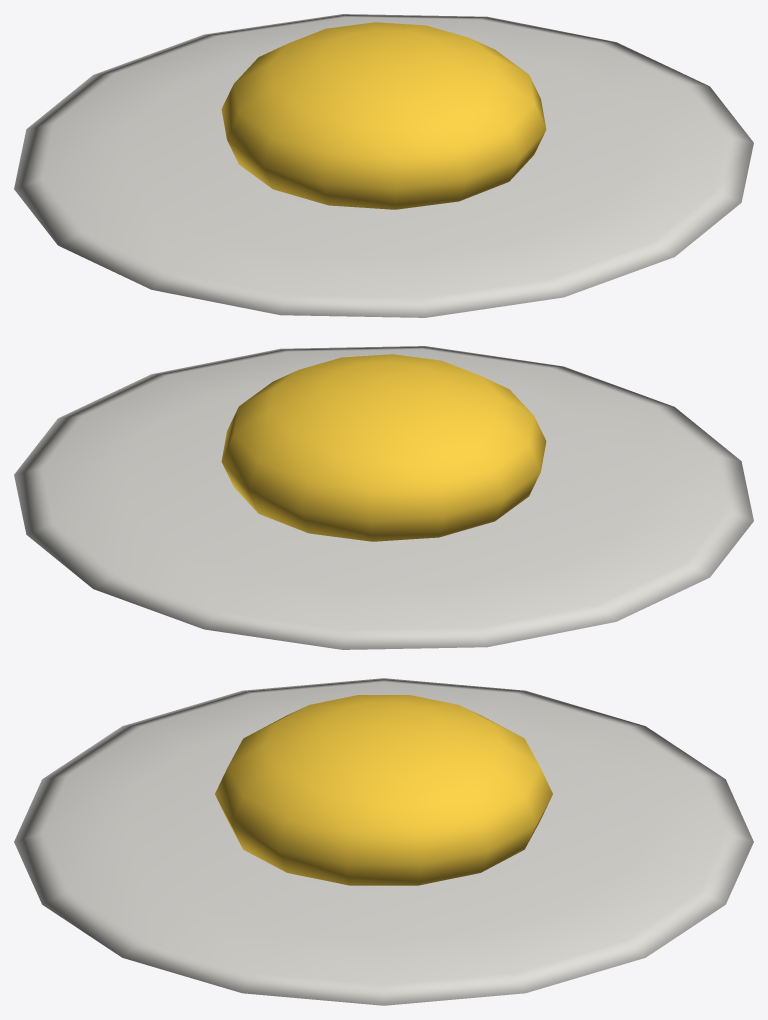
The model's file is ARCH-FOOD-EGG-FRIED.glb.
The picture shows the model from 3 angles, top to bottom: view 1: azimuth 30°, elevation 25°; view 2: azimuth 150°, elevation 25°; view 3: azimuth 270°, elevation 25°; orthographic projection. The views are drawn at different scales.
Parts seen in each view (by area): view 1: asset_arch_food_egg_fried; view 2: asset_arch_food_egg_fried; view 3: asset_arch_food_egg_fried.
Part boxes in pixels (left/top/right/bottom): asset_arch_food_egg_fried: left=14, top=14, right=753, bottom=317; asset_arch_food_egg_fried: left=14, top=346, right=753, bottom=649; asset_arch_food_egg_fried: left=14, top=678, right=753, bottom=1005.
Bounding box in the file's own units: 0.11 × 0.022 × 0.105.
